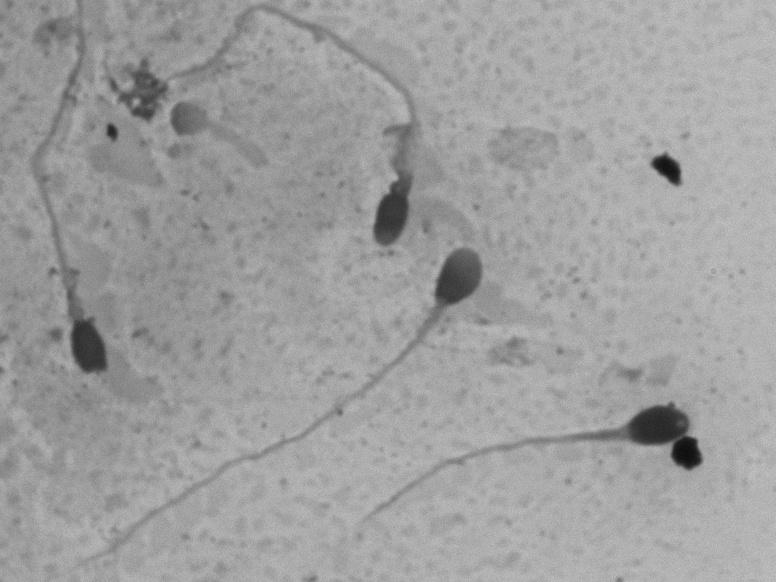Abnormal: (342, 374, 713, 553), (266, 29, 468, 250), (22, 53, 119, 387), (397, 230, 509, 373)
